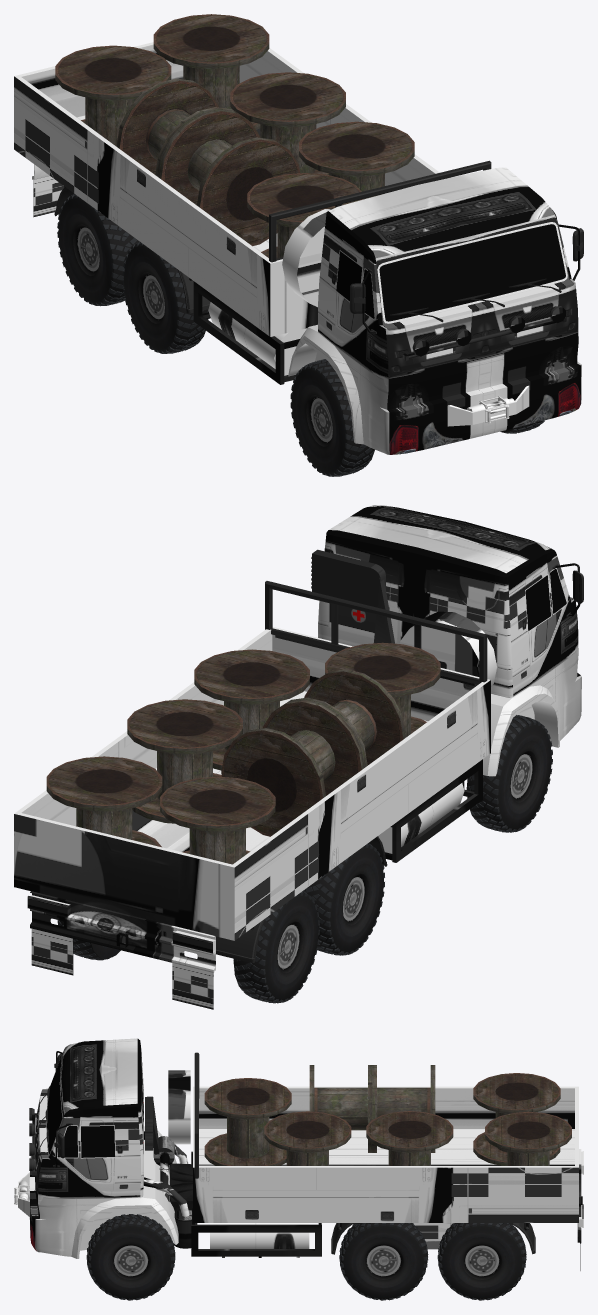
File: Truck 6_n.fbx
3 renders of one model, top to bottom at view 1: azimuth 30°, elevation 25°; view 2: azimuth 150°, elevation 25°; view 3: azimuth 270°, elevation 25°, orthographic. The views are drawn at different scales.
Parts seen in each view (by area): view 1: Body, Object001, wheel_FR, wheel_BR 2, wheel_BR 1; view 2: Body, Object001, wheel_FR, wheel_BR 2, wheel_BR 1, wheel_BL 2; view 3: Body, Object001, wheel_FL, wheel_BL 2, wheel_BL 1.
Boxes of the visible parts, <box> form: Body: <box>14,14,583,426</box>; Object001: <box>288,167,581,454</box>; wheel_FR: <box>290,359,374,476</box>; wheel_BR 2: <box>57,194,139,306</box>; wheel_BR 1: <box>122,241,208,353</box>; Body: <box>14,549,583,1009</box>; Object001: <box>318,505,581,776</box>; wheel_FR: <box>466,715,552,832</box>; wheel_BR 2: <box>233,891,319,1003</box>; wheel_BR 1: <box>303,843,384,955</box>; wheel_BL 2: <box>57,920,120,960</box>; Body: <box>14,1051,583,1270</box>; Object001: <box>29,1038,178,1258</box>; wheel_FL: <box>86,1214,175,1300</box>; wheel_BL 2: <box>437,1223,526,1300</box>; wheel_BL 1: <box>339,1223,428,1300</box>.
Bounding box in the file's own units: 81.6 × 87.39 × 229.
